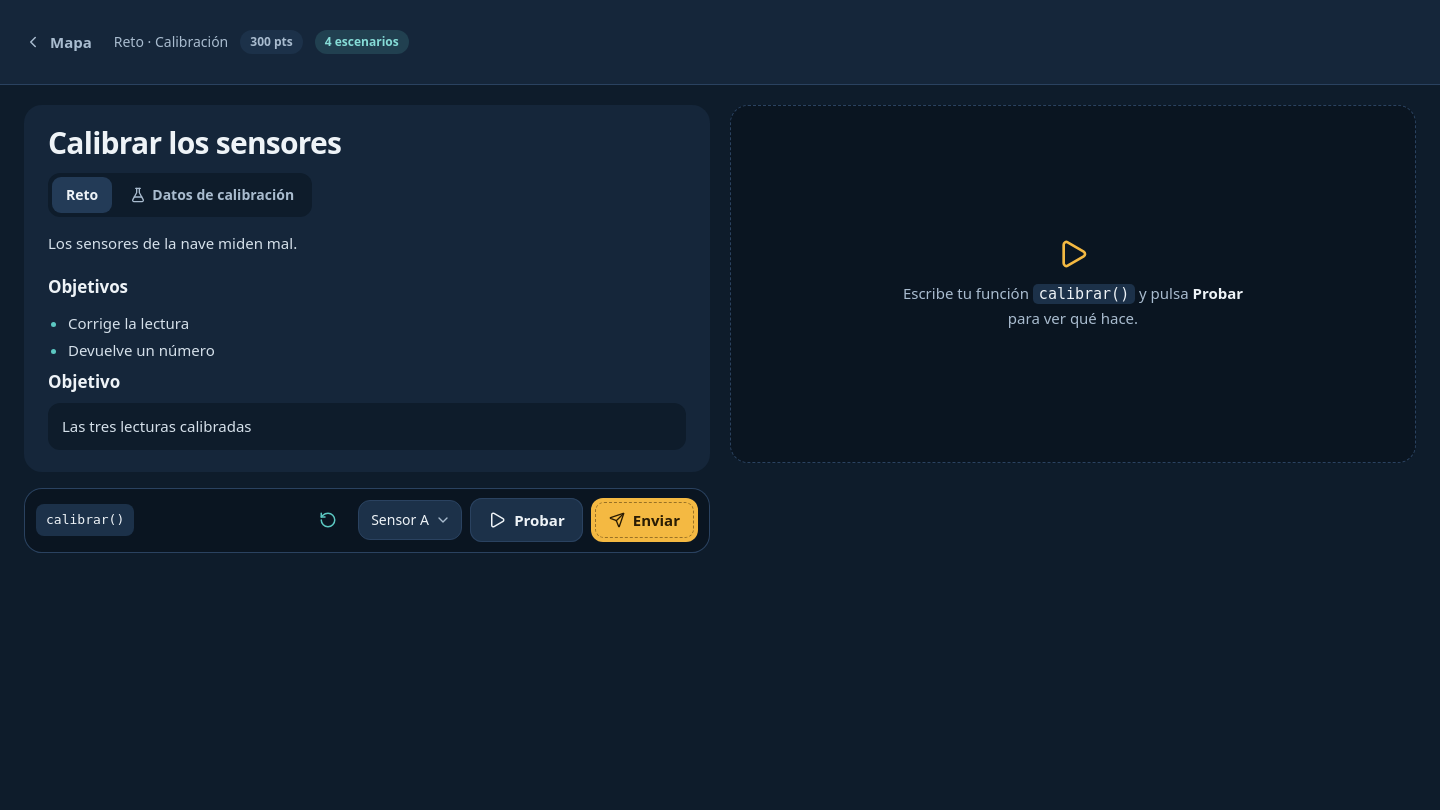
Scenario: un reto con material: título, pestañas, una sola acción principal y su botón de probar
The image size is (1440, 810).
Check: the heading "Calibrar los sensores" is shown, box [48, 122, 341, 163]
Check: the text "Reto · Calibración" is shown, box [114, 31, 228, 53]
Click the tab "Datos de calibración" at (212, 194), box [116, 176, 308, 212]
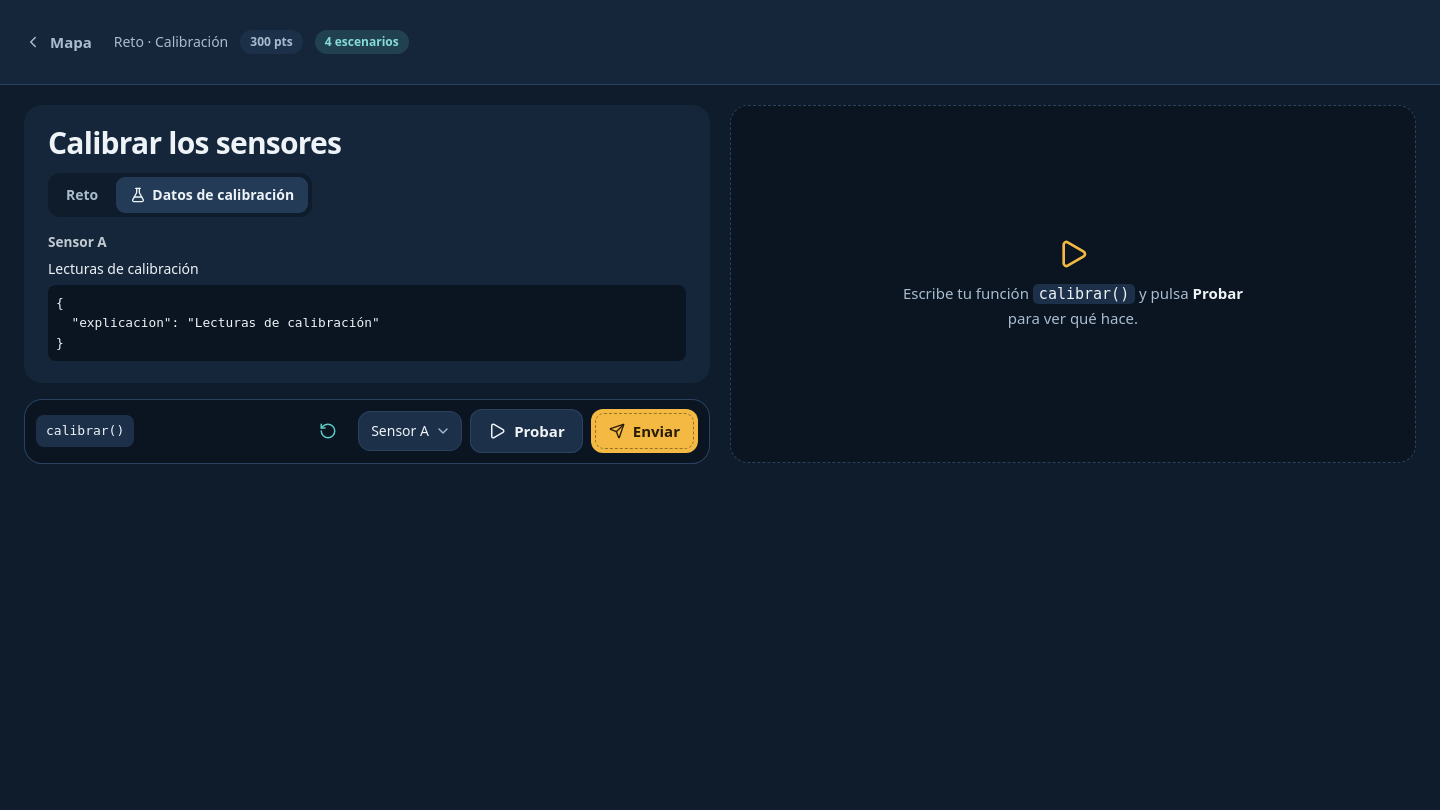
Check: the number of buttons with class "ui-boton--primario" is 1, box [591, 409, 698, 453]
Check: the panel shows "Lecturas de calibración", box [48, 259, 199, 278]
